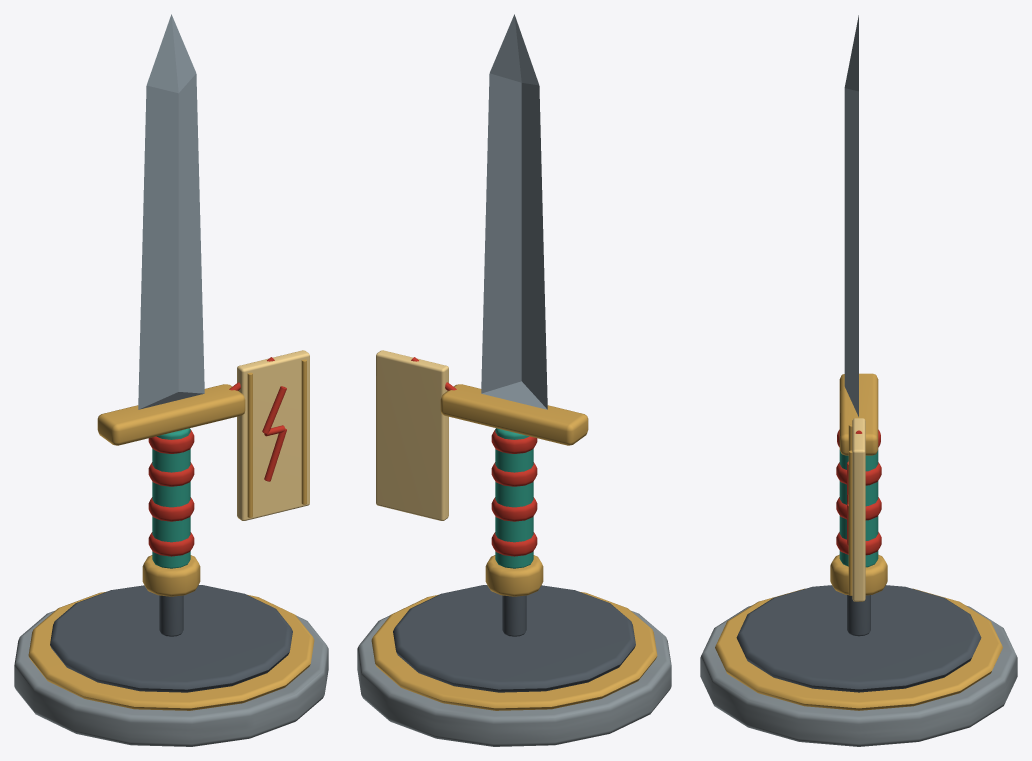
Rendered from cheongun-sword.glb.
3 views of the same model, side by side, from view 1: azimuth 30°, elevation 25°; view 2: azimuth 150°, elevation 25°; view 3: azimuth 270°, elevation 25° (orthographic).
Visible parts, largest first — view 1: Sword / forged straight blade, Display / raised inset.003, Display / stone base.003, Talisman / paper, Display / bronze rim.003, Sword / cross guard, Sword / jade grip, Sword / pommel, Display / sword support, Talisman / warm border.001, Talisman / warm border, Binding / collar.013 (+3 smaller); view 2: Sword / forged straight blade, Display / raised inset.003, Display / stone base.003, Talisman / paper, Display / bronze rim.003, Sword / cross guard, Sword / jade grip, Sword / pommel, Display / sword support, Binding / collar.013, Binding / collar.014, Binding / collar.015 (+1 smaller); view 3: Display / raised inset.003, Display / stone base.003, Display / bronze rim.003, Sword / forged straight blade, Talisman / paper, Sword / cross guard, Sword / jade grip, Sword / pommel, Display / sword support, Talisman / warm border.001.
Part boxes in pixels (box(x1,y1,x2,y2)): Sword / forged straight blade: box(138, 14, 204, 409); Display / raised inset.003: box(50, 585, 292, 692); Display / stone base.003: box(14, 611, 328, 746); Talisman / paper: box(237, 350, 309, 520); Display / bronze rim.003: box(28, 591, 314, 710); Sword / cross guard: box(97, 384, 245, 445); Sword / jade grip: box(152, 428, 190, 568); Sword / pommel: box(142, 555, 200, 596); Display / sword support: box(159, 595, 183, 636); Talisman / warm border.001: box(301, 359, 306, 504); Talisman / warm border: box(247, 372, 252, 517); Binding / collar.013: box(148, 532, 194, 556); Sword / forged straight blade: box(481, 14, 547, 409); Display / raised inset.003: box(393, 585, 635, 692); Display / stone base.003: box(357, 611, 671, 746); Talisman / paper: box(376, 350, 448, 520); Display / bronze rim.003: box(371, 591, 657, 710); Sword / cross guard: box(440, 384, 588, 445); Sword / jade grip: box(495, 428, 533, 568); Sword / pommel: box(485, 555, 543, 596); Display / sword support: box(502, 595, 526, 636); Binding / collar.013: box(491, 532, 537, 556); Binding / collar.014: box(491, 497, 537, 521); Binding / collar.015: box(491, 462, 537, 486); Display / raised inset.003: box(736, 585, 981, 692); Display / stone base.003: box(700, 605, 1017, 746); Display / bronze rim.003: box(715, 588, 1002, 710); Sword / forged straight blade: box(844, 15, 858, 416); Talisman / paper: box(852, 418, 865, 601); Sword / cross guard: box(839, 373, 878, 455); Sword / jade grip: box(839, 450, 878, 567); Sword / pommel: box(830, 554, 887, 595); Display / sword support: box(847, 595, 870, 636); Talisman / warm border.001: box(848, 450, 852, 595).
Bounding box in the file's own units: 1.32 × 3.07 × 1.32.
7 materials, 1 textured.
